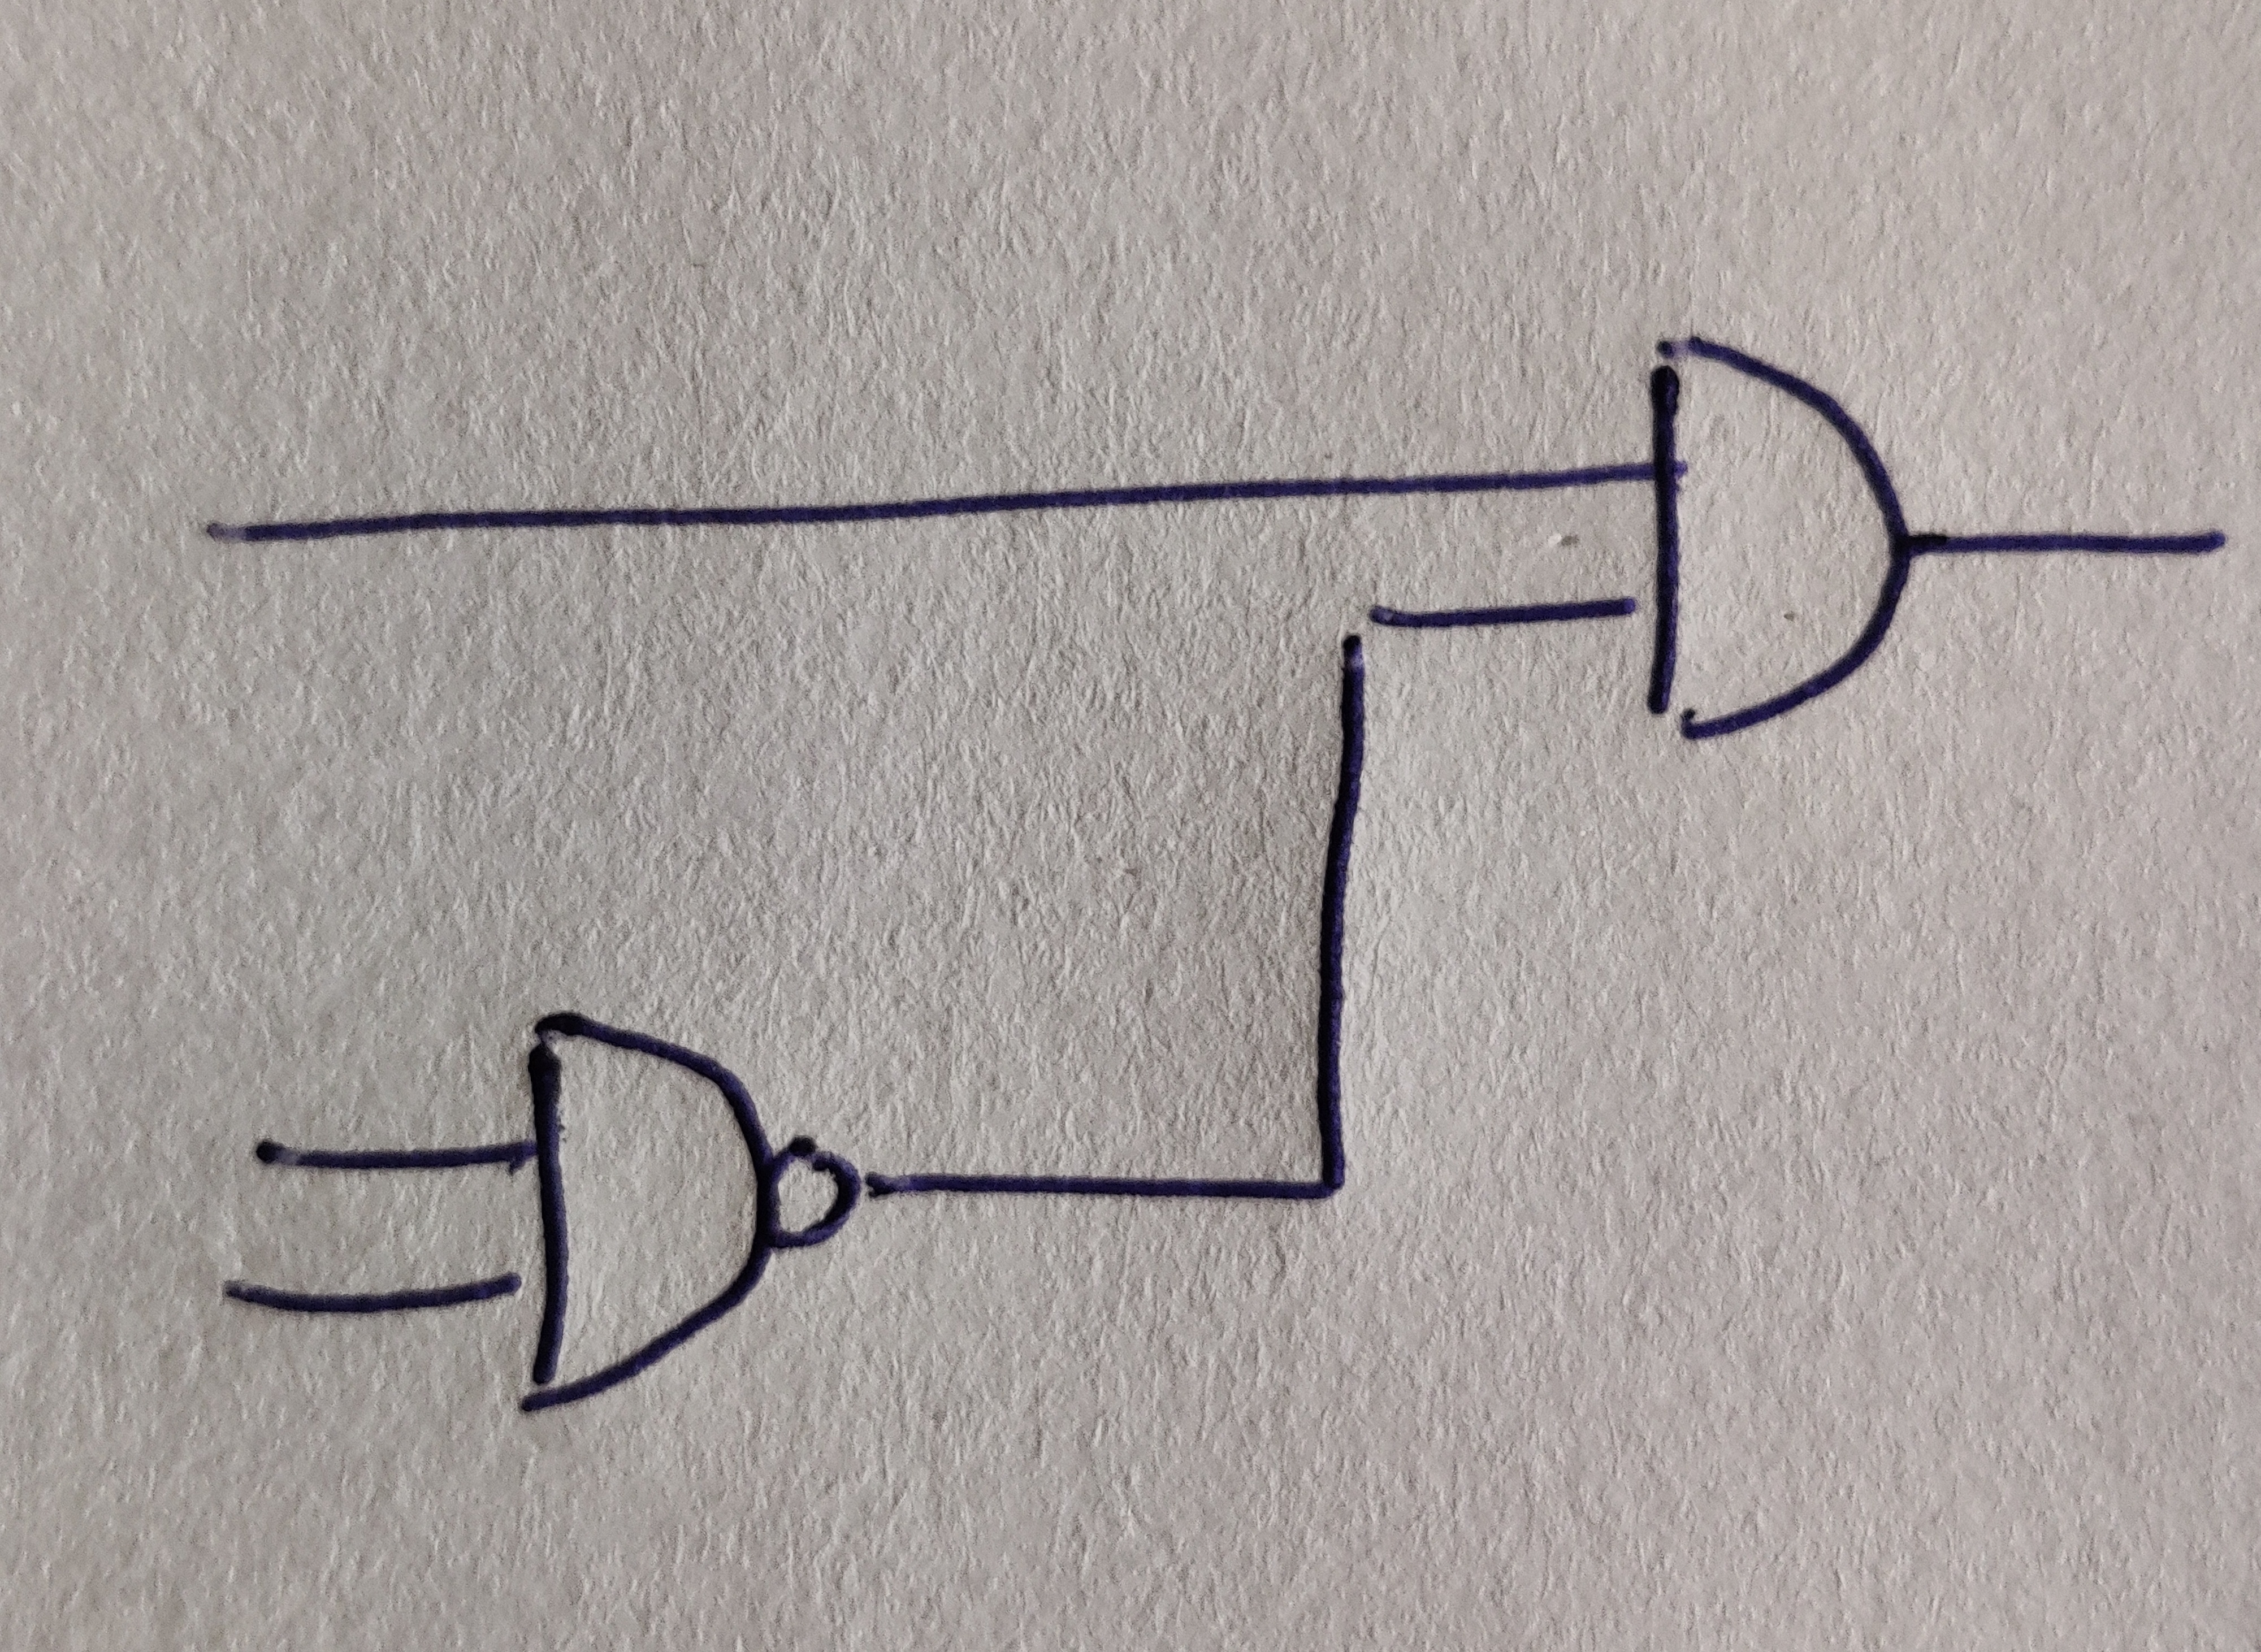and: (1654, 337, 1908, 743), (520, 1015, 774, 1413)
not: (772, 1136, 860, 1250)
